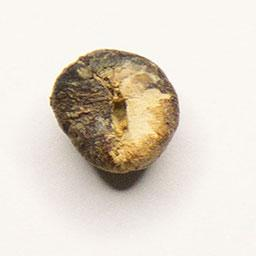defect: (49, 48, 183, 177)
